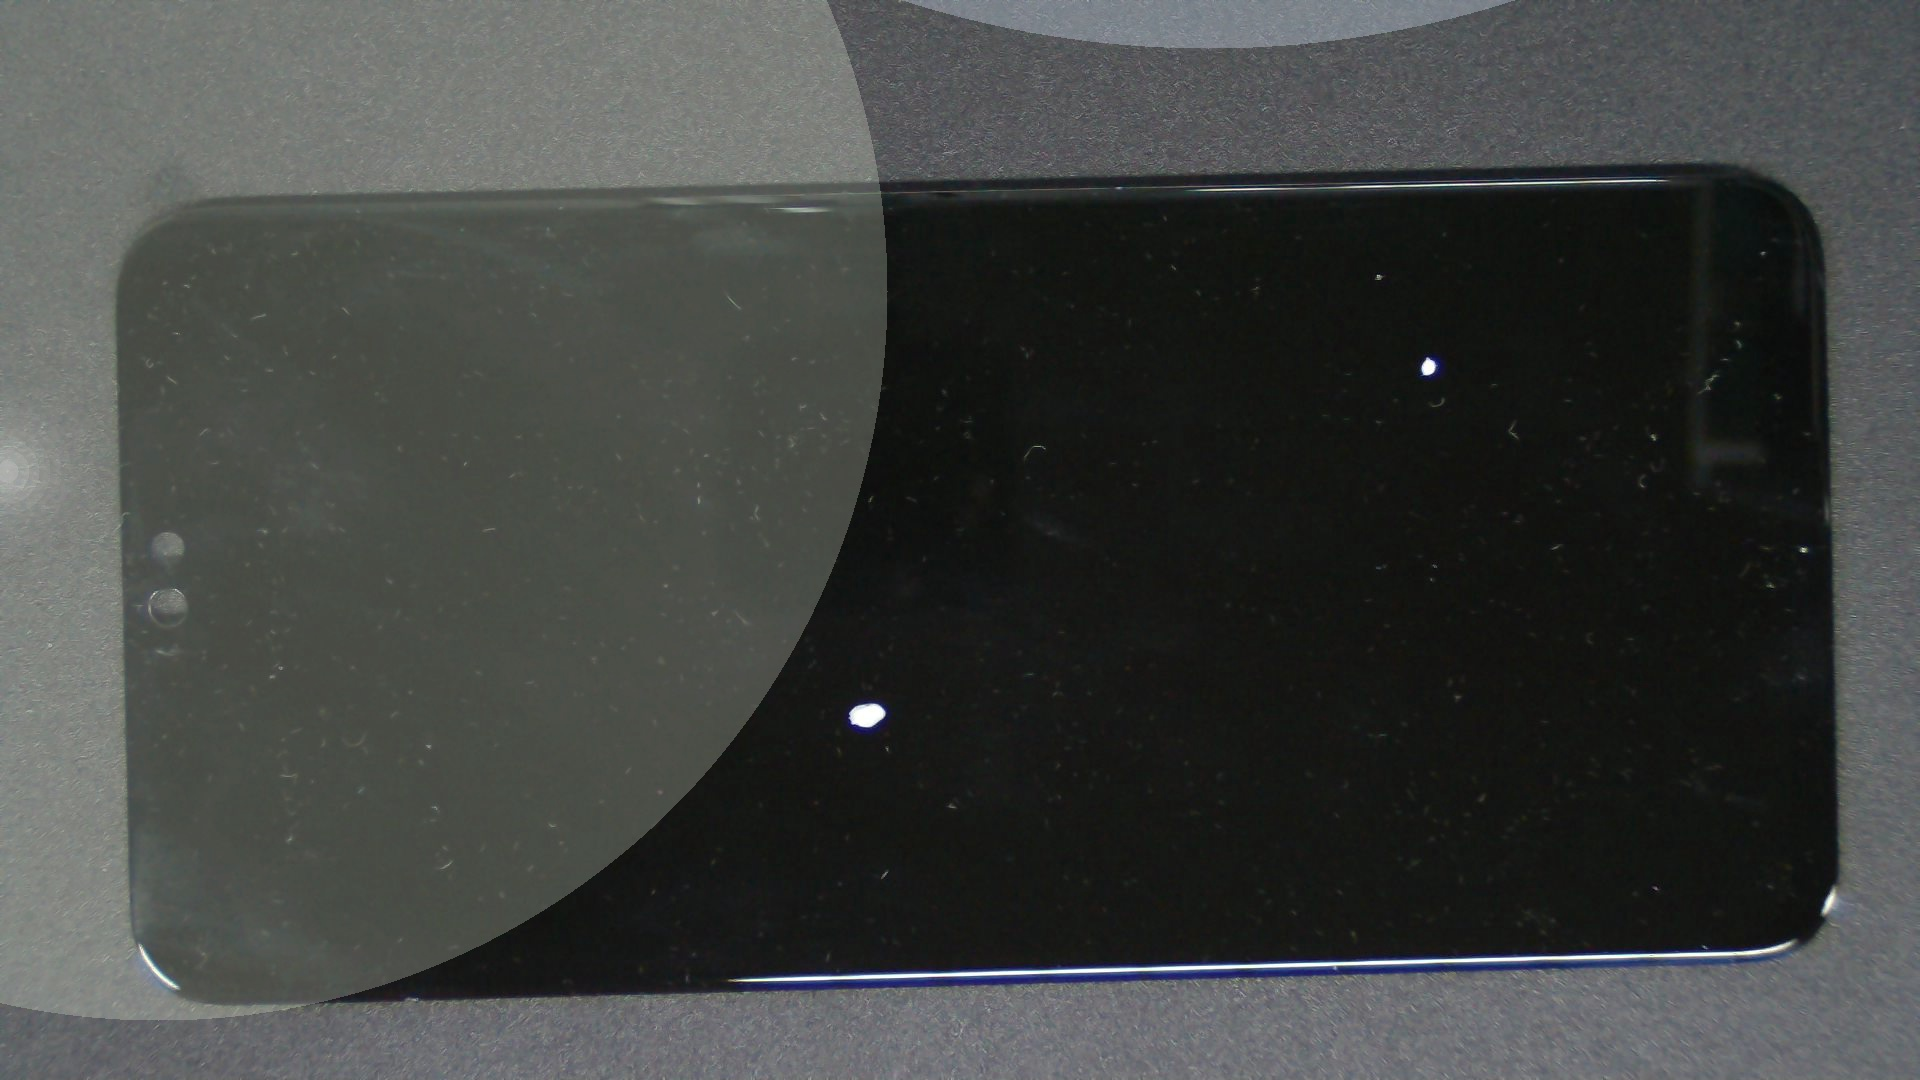oil: (434, 351, 1302, 1054), (713, 178, 1920, 534)
